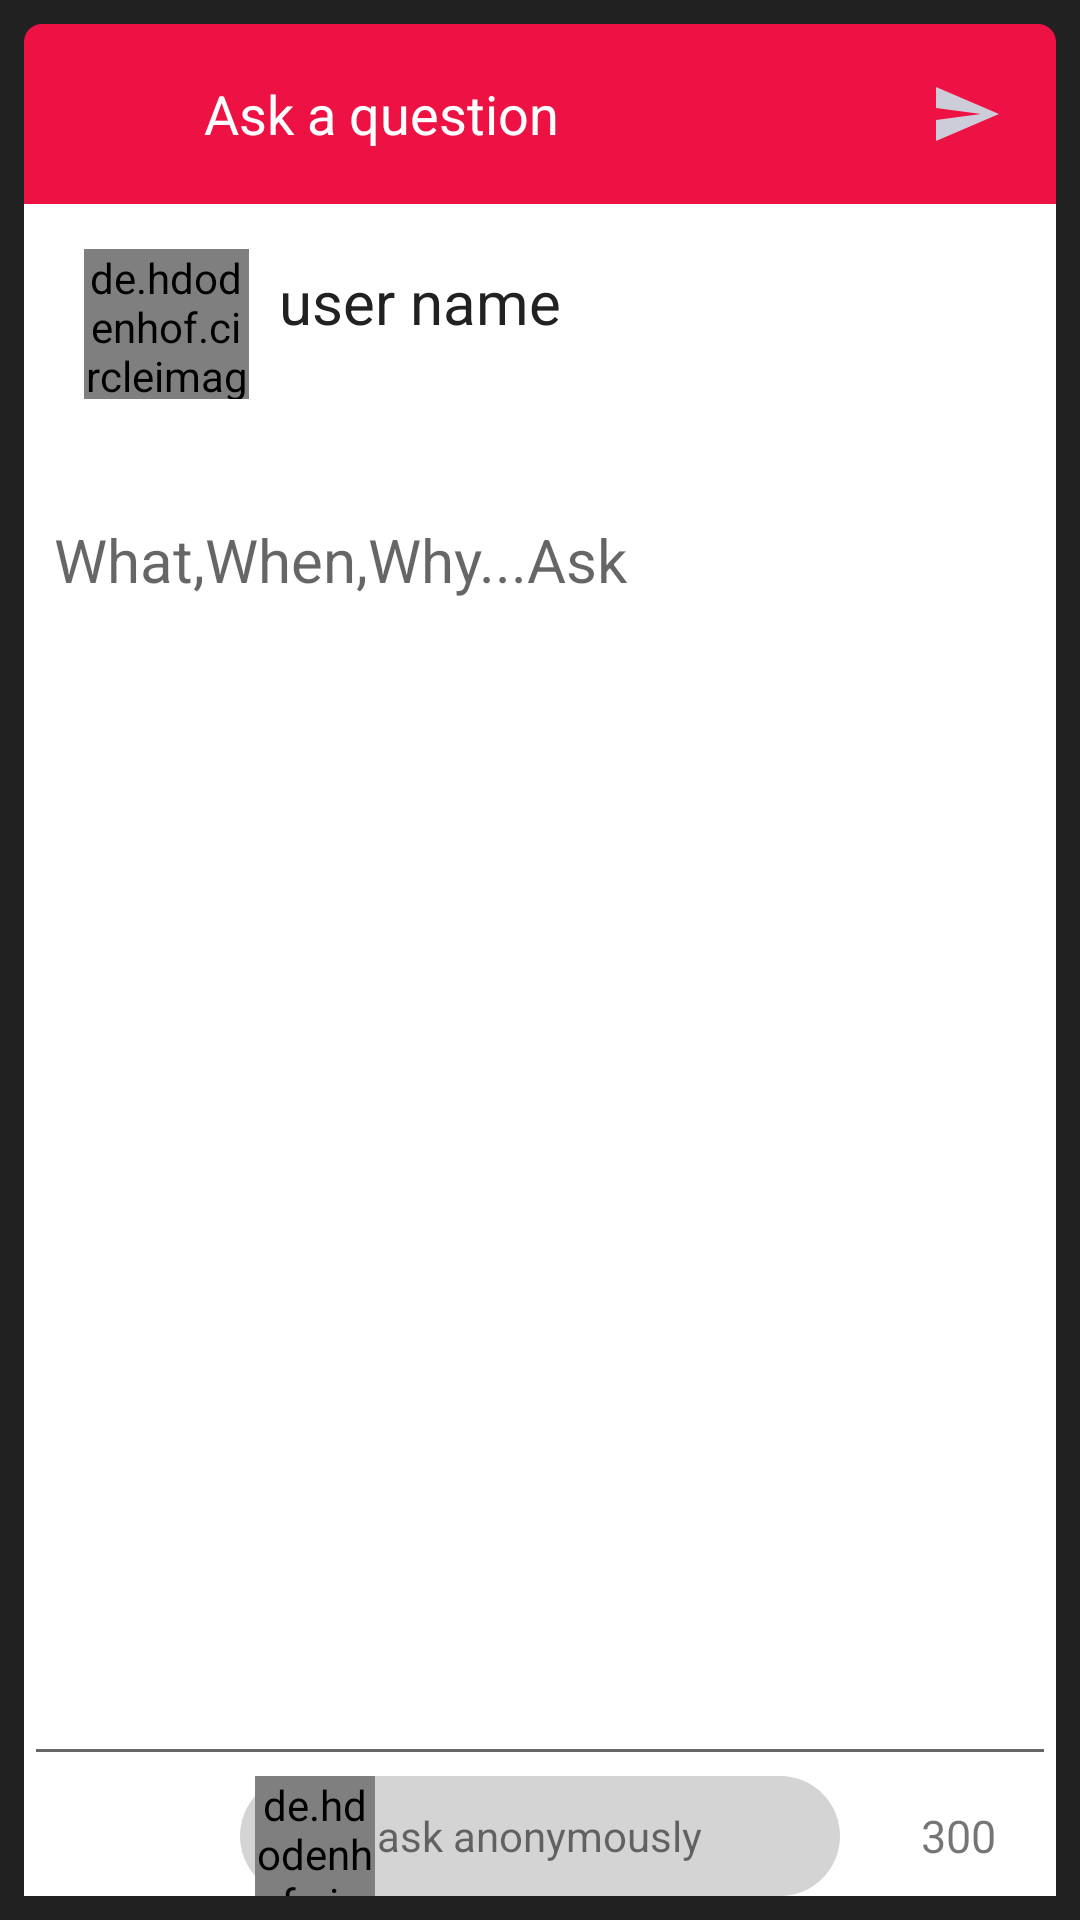

Named icons in this screenshot (1080 × 1920) and their centers, (x,y):
send: (967,114)
